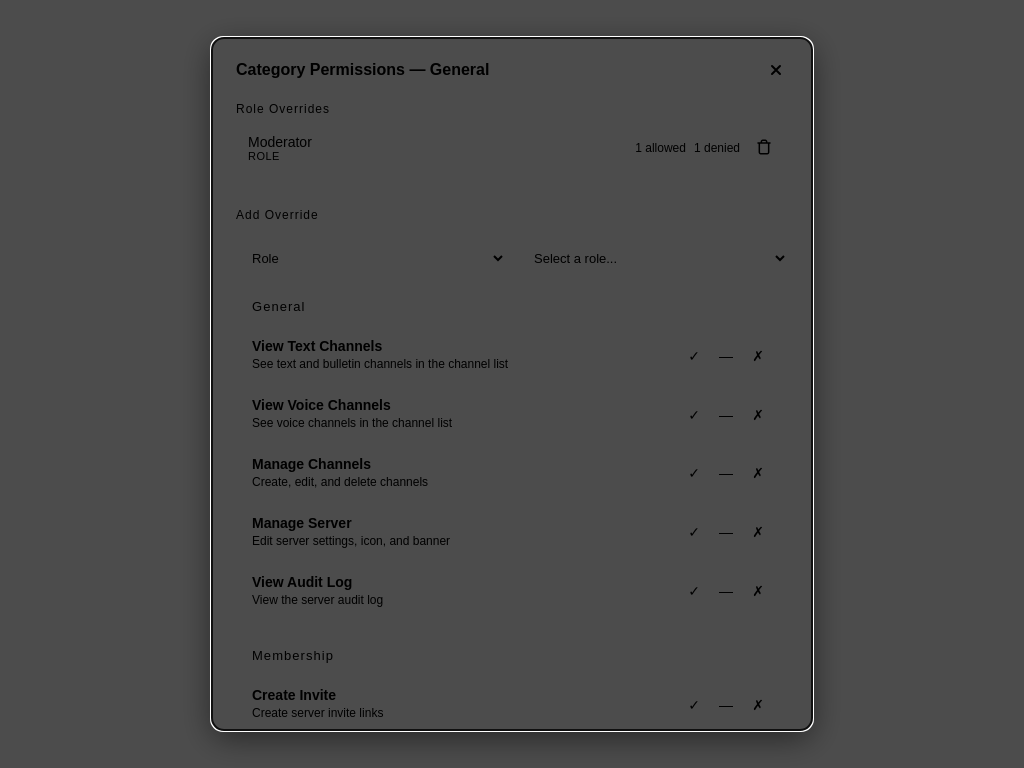
CategorySettingsModal — V6-V7 regression (#3406) › V7: a DELETE returning 500 leaves the row with the delete alert; a 200 removes it
Expected: the text with class "override-target-name" reads "Moderator", [248,134,312,150]
Click the button with class "override-item-select" at (280, 142), box [248,134,740,162]
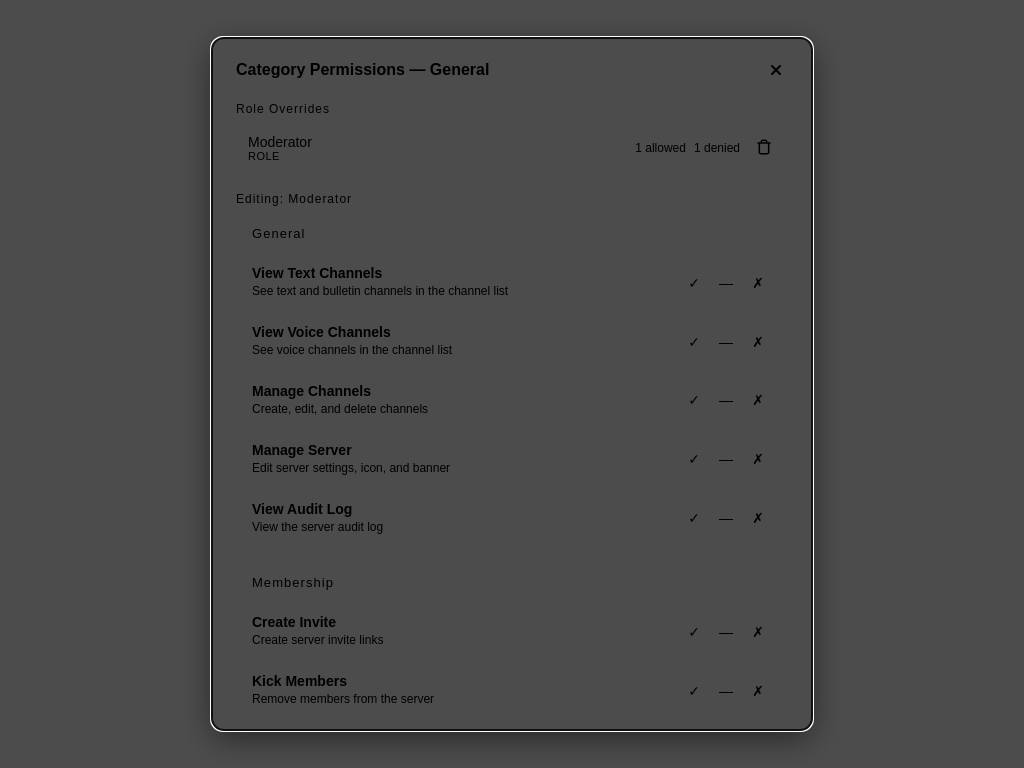
Click the button named "Delete override" at (764, 148), box [752,135,776,162]
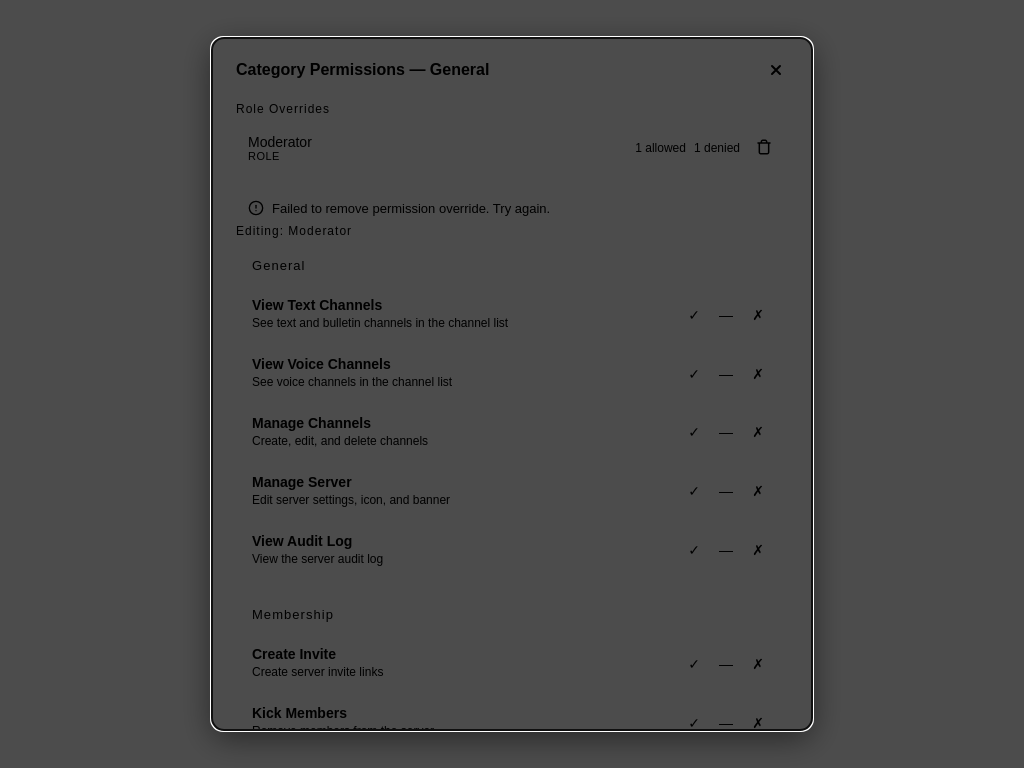
Expected: the text "Moderator" is shown, [248,134,312,150]
Expected: the message reads "Failed to remove permission override. Try again.", [272,201,550,216]
Click the button named "Delete override" at (764, 148), box [752,135,776,162]
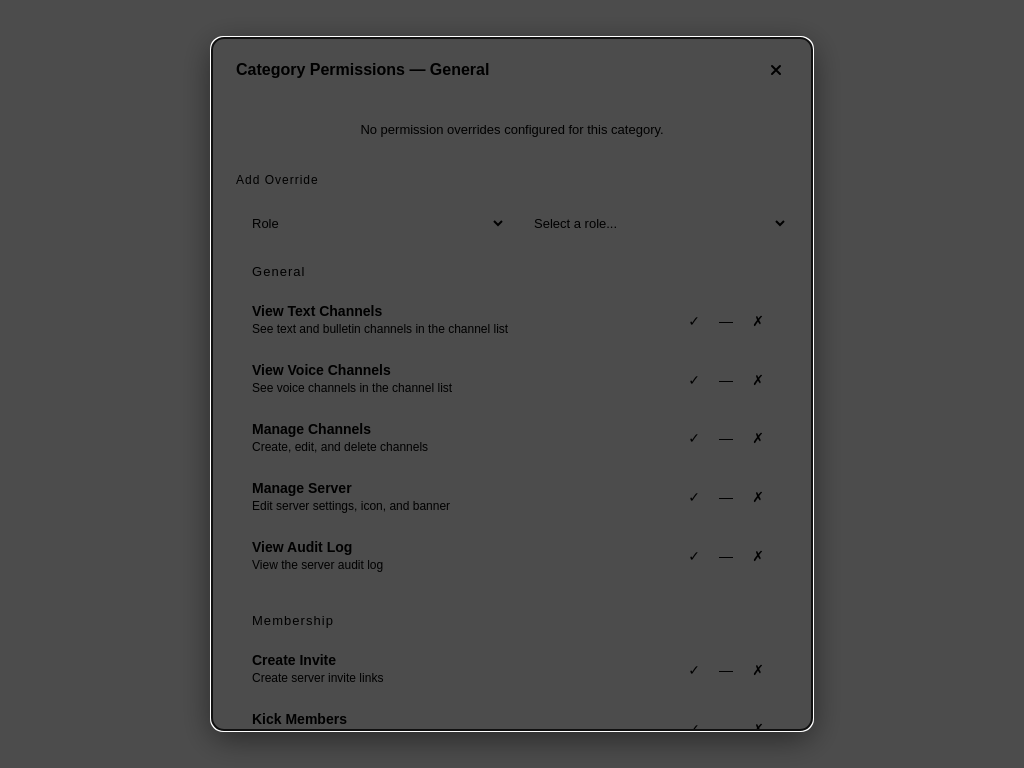
Expected: the button "Moderator" is gone
